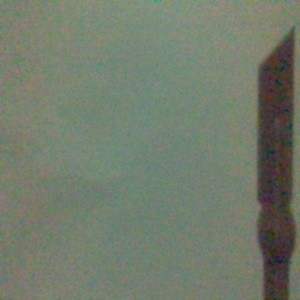cutter: (255, 25, 297, 300)
